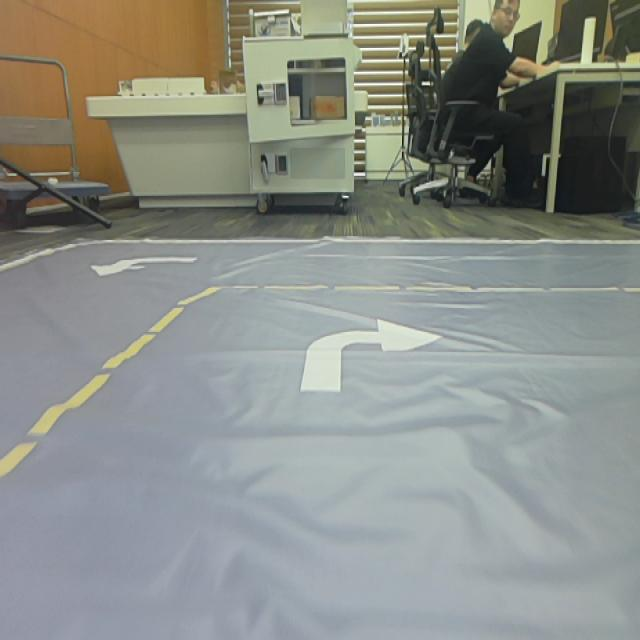left_lane: (0, 297, 195, 484)
